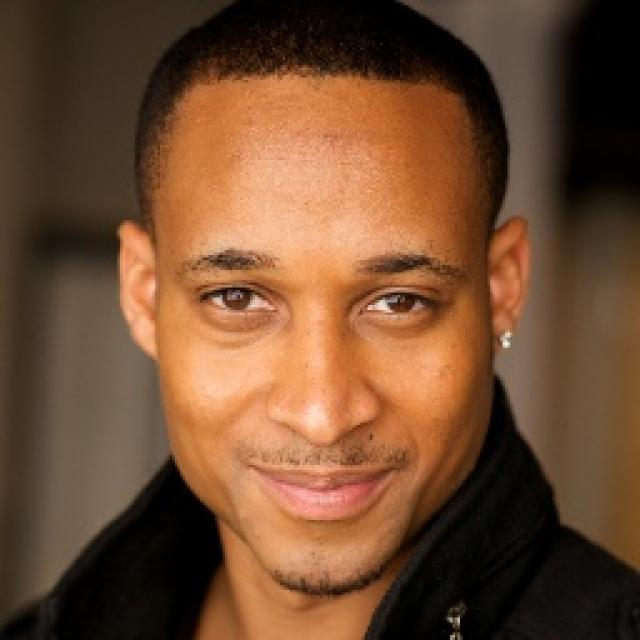earlobe: (123, 312, 160, 359), (489, 305, 519, 355)
eye: (192, 279, 283, 317), (360, 288, 442, 321)
nose: (264, 416, 383, 464)
wholeear: (488, 218, 533, 356), (117, 222, 159, 359)
